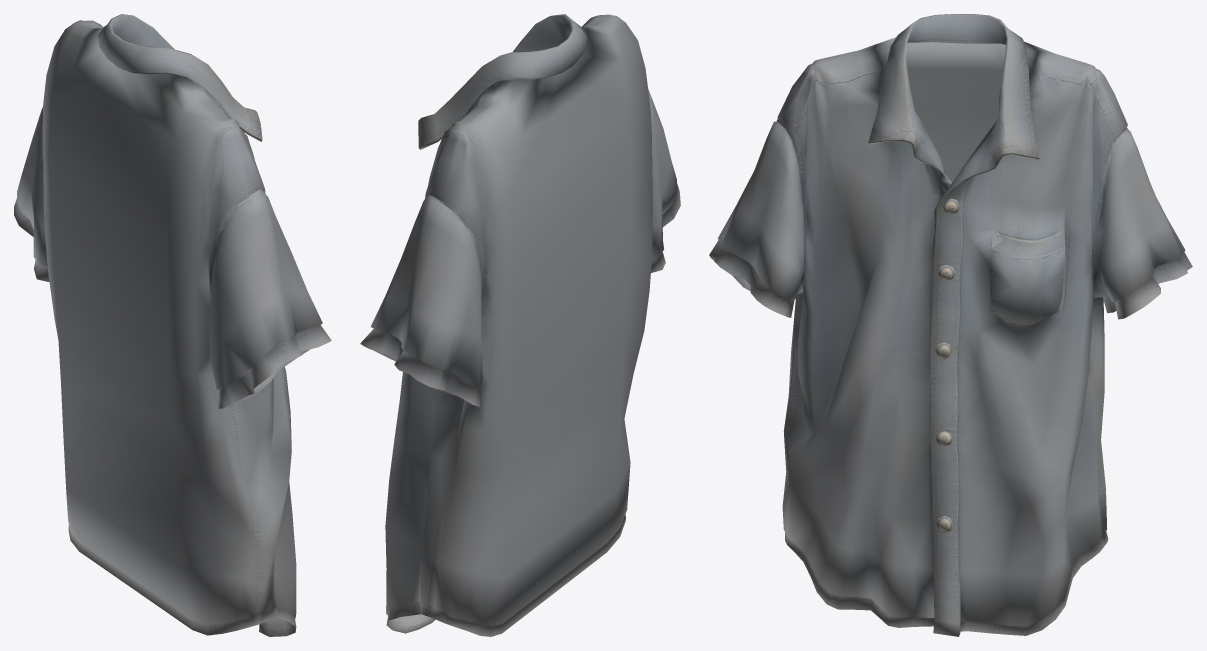
File: laundry-shirt.glb
3 renders of one model, left to right at view 1: azimuth 30°, elevation 25°; view 2: azimuth 150°, elevation 25°; view 3: azimuth 270°, elevation 25°, orthographic. The views are drawn at different scales.
Visible parts, largest first — view 1: tripo_node_84ab0570-b665-454b-ae64-9e8ad7cb7aab; view 2: tripo_node_84ab0570-b665-454b-ae64-9e8ad7cb7aab; view 3: tripo_node_84ab0570-b665-454b-ae64-9e8ad7cb7aab.
Part boxes in pixels (x1=…): tripo_node_84ab0570-b665-454b-ae64-9e8ad7cb7aab: x1=14, y1=14, x2=331, y2=636; tripo_node_84ab0570-b665-454b-ae64-9e8ad7cb7aab: x1=360, y1=14, x2=680, y2=636; tripo_node_84ab0570-b665-454b-ae64-9e8ad7cb7aab: x1=709, y1=14, x2=1192, y2=636.
Bounding box in the file's own units: 0.2441 × 0.998 × 0.7715.
1 material, 1 textured.
